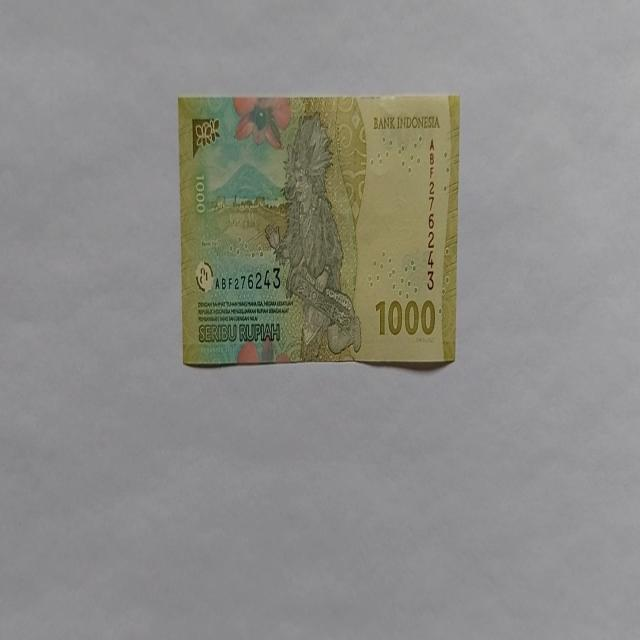seribu rupiah kertas: (178, 92, 460, 368)
